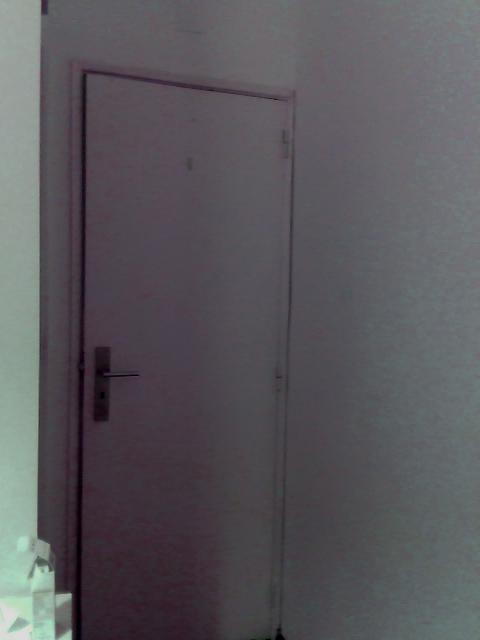closed_door: (67, 59, 294, 639)
